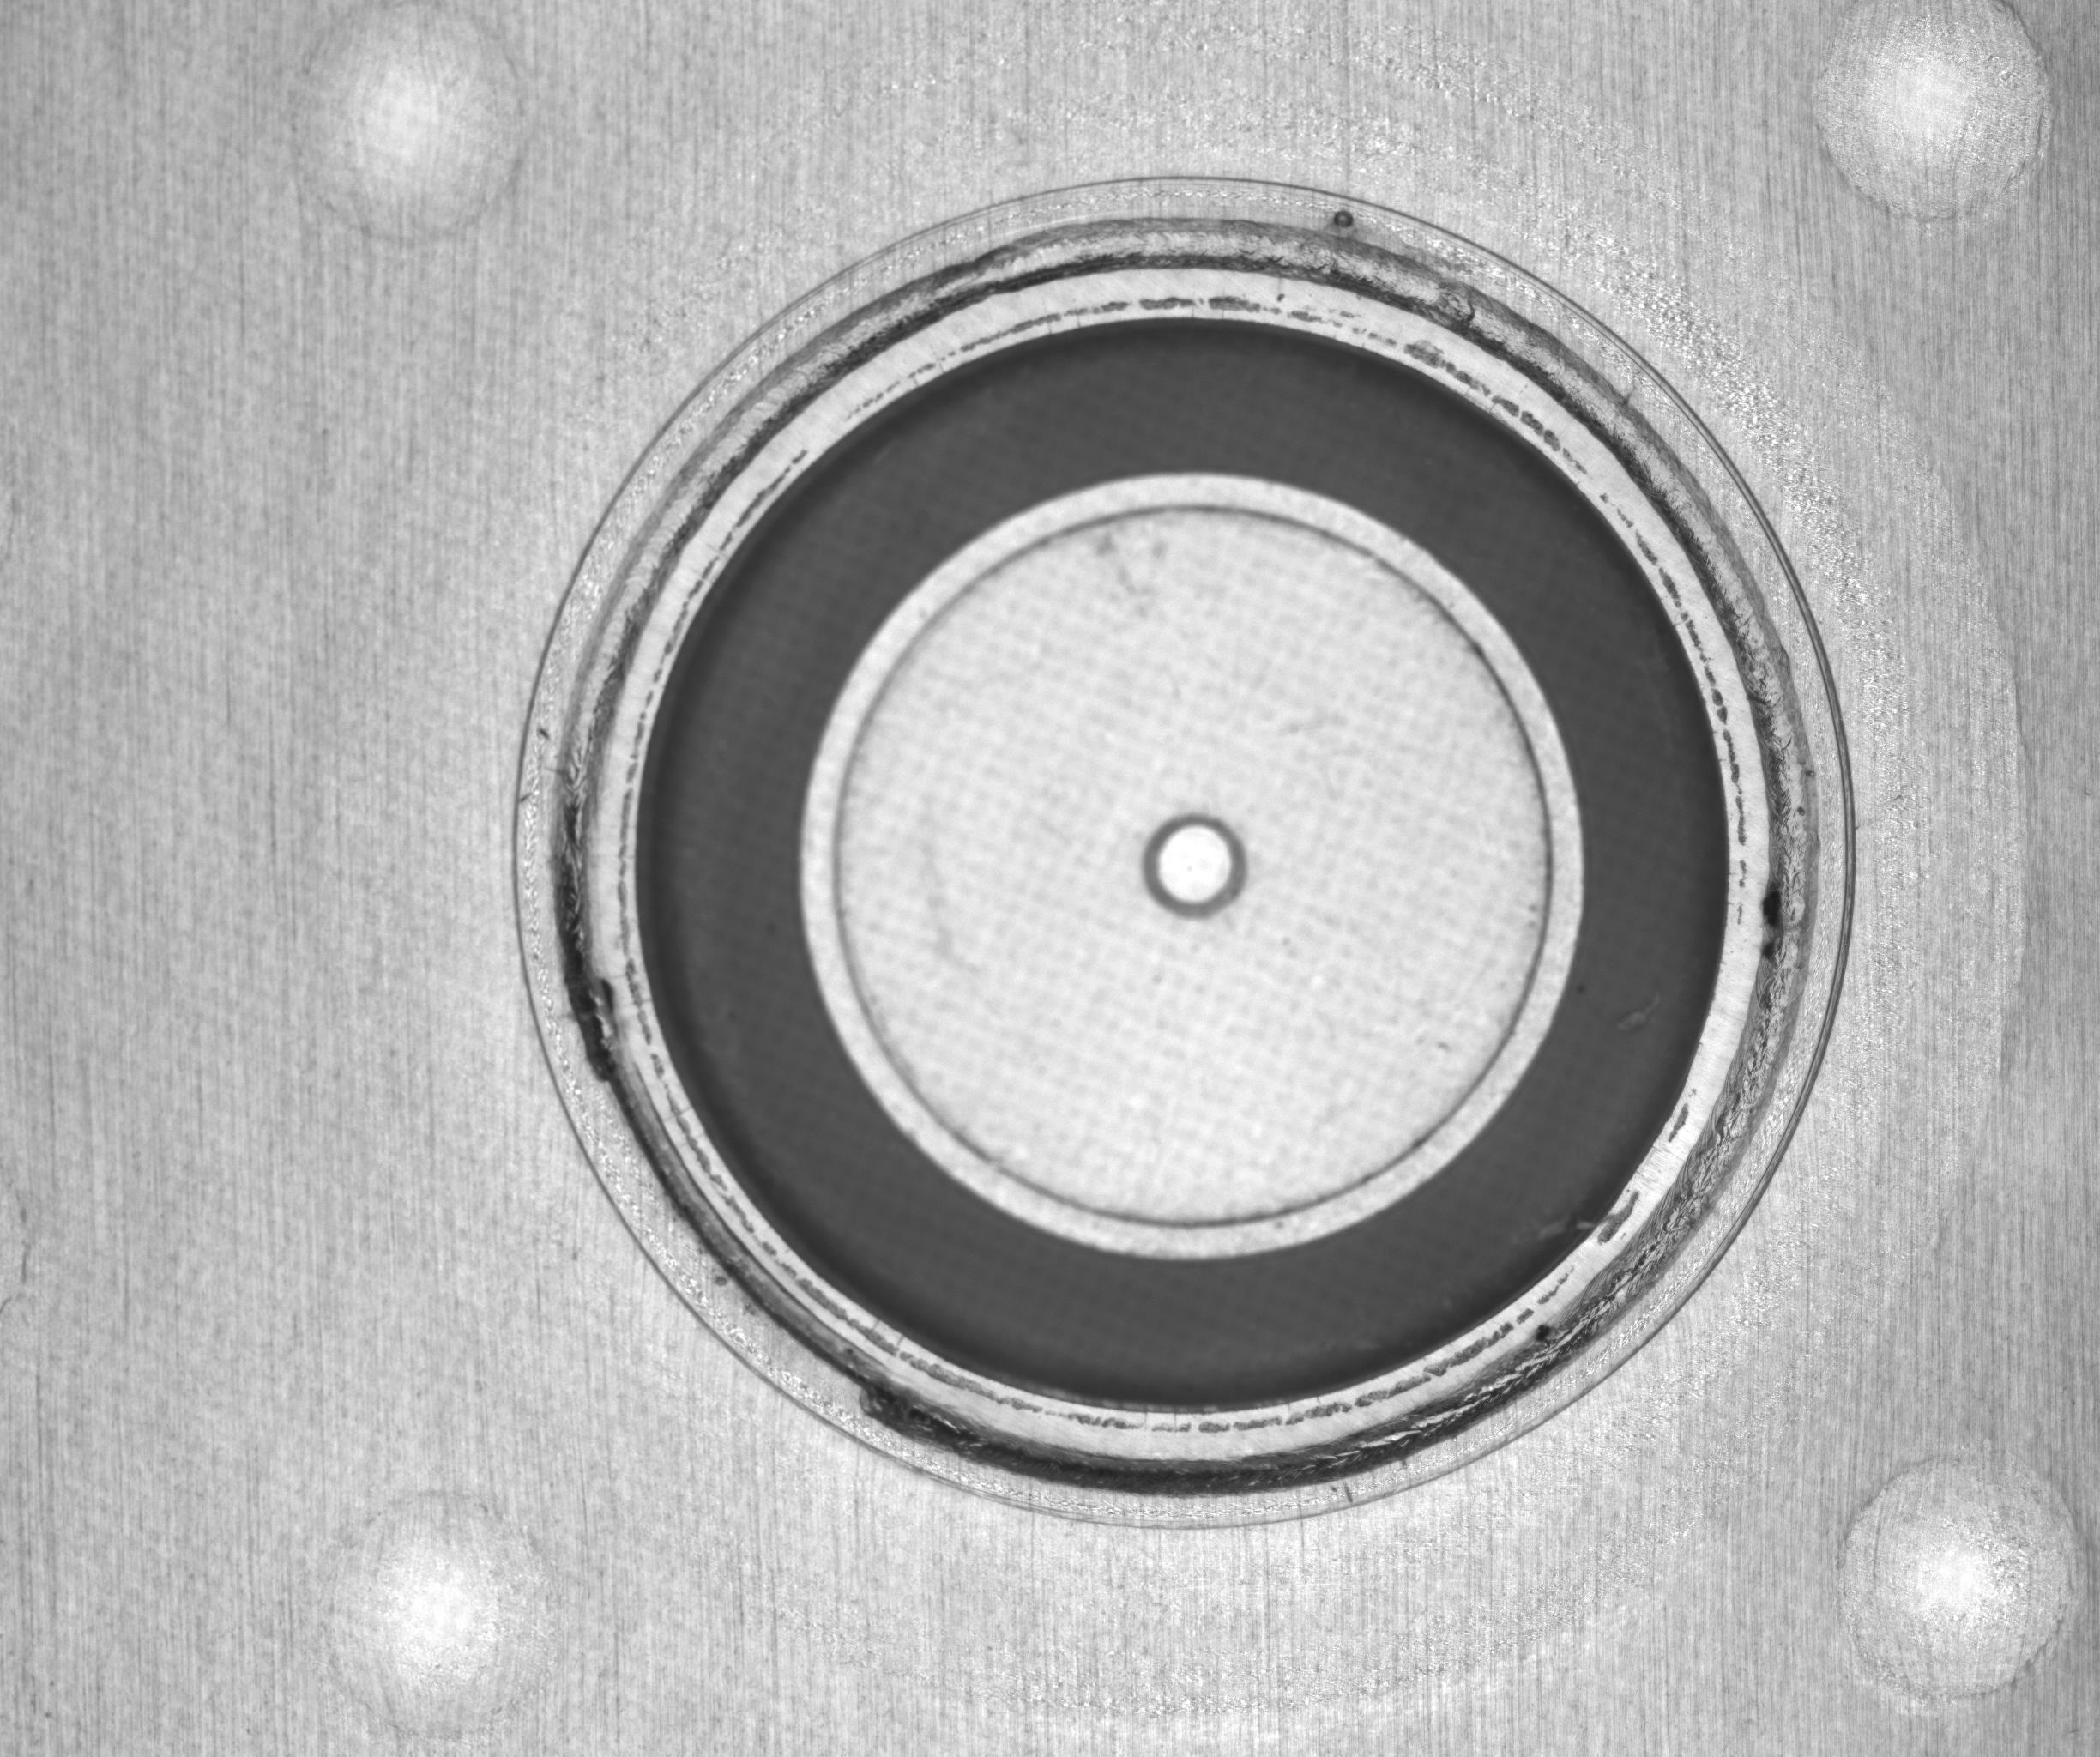lackofweld: (583, 1019, 884, 1425)
